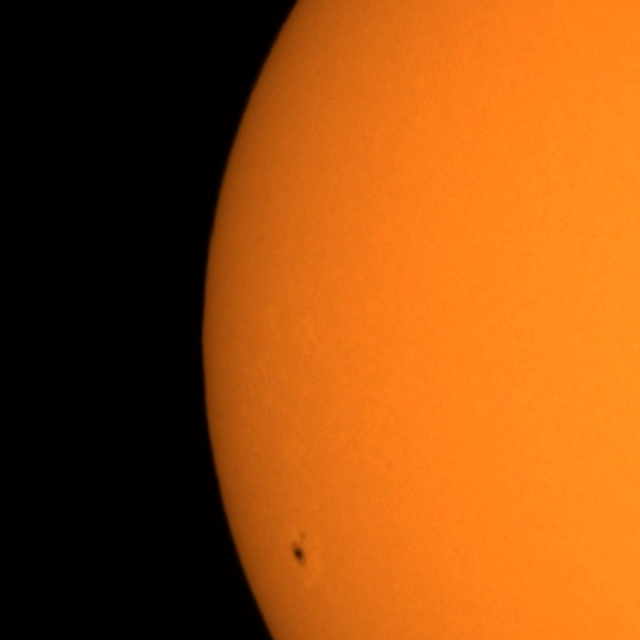sunspot: (289, 528, 309, 568)
